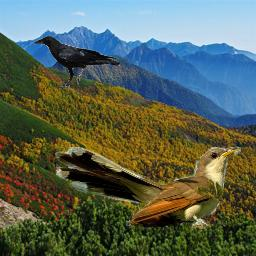Crow: (33, 35, 120, 88)
Cuckoo: (55, 147, 241, 229)
